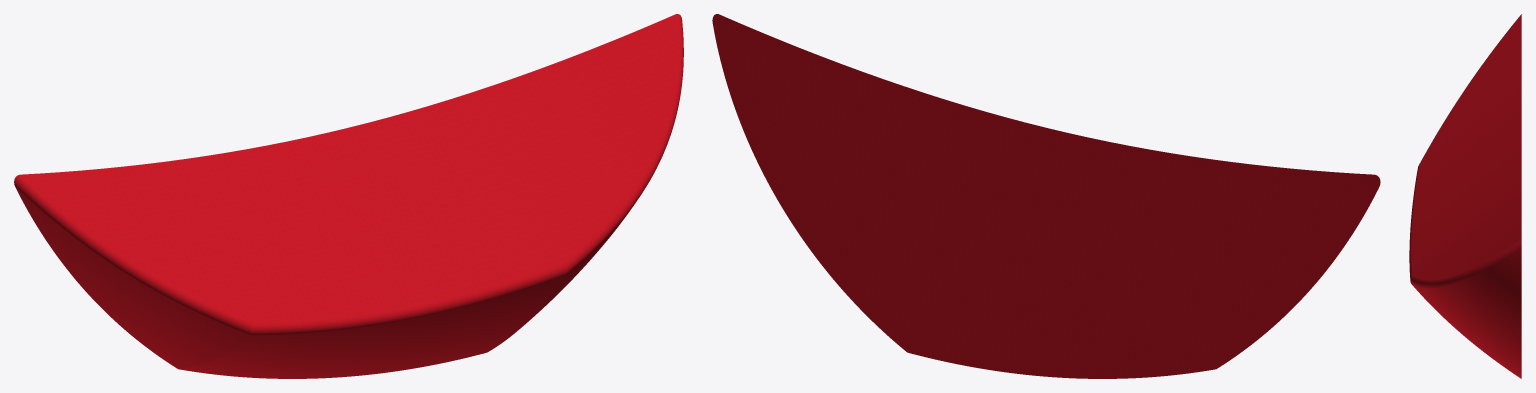
Rendered from hold_under_red.glb.
3 renders of one model, left to right at view 1: azimuth 30°, elevation 25°; view 2: azimuth 150°, elevation 25°; view 3: azimuth 270°, elevation 25°, orthographic. The views are drawn at different scales.
Parts seen in each view (by area): view 1: Object_2; view 2: Object_2; view 3: Object_2.
Boxes of the visible parts, <box> form: Object_2: <box>14,14,683,378</box>; Object_2: <box>712,14,1380,378</box>; Object_2: <box>1409,14,1521,378</box>.
Size of the model in its own units: 594 by 249 by 123.
Materials: 1 (1 with a texture image).
